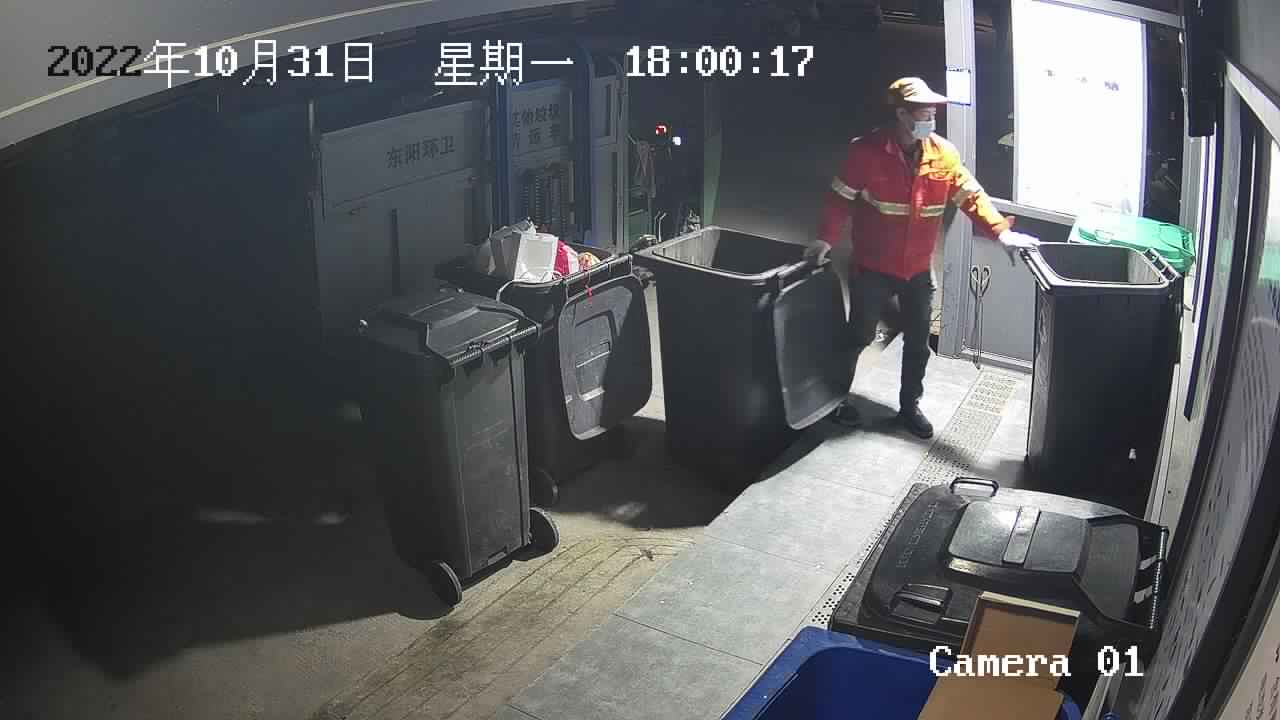worker: (801, 75, 1041, 438)
